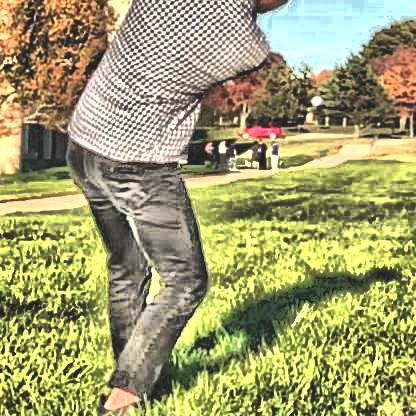golfball: (306, 92, 321, 106)
